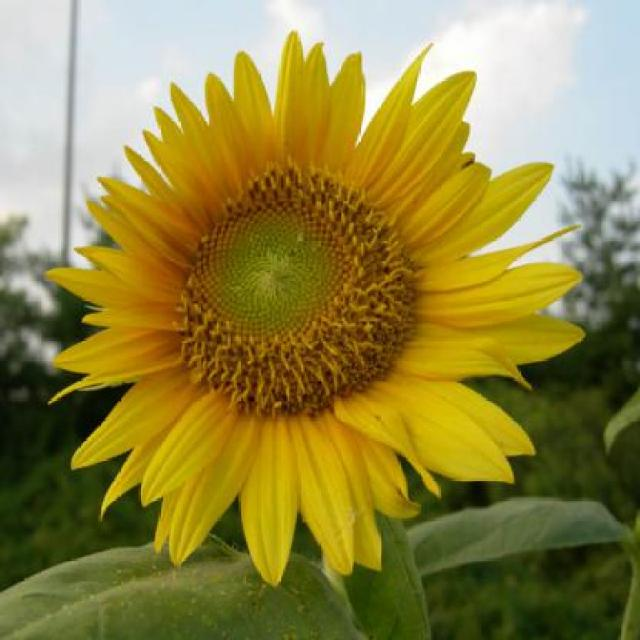sunflower: (32, 33, 594, 591)
